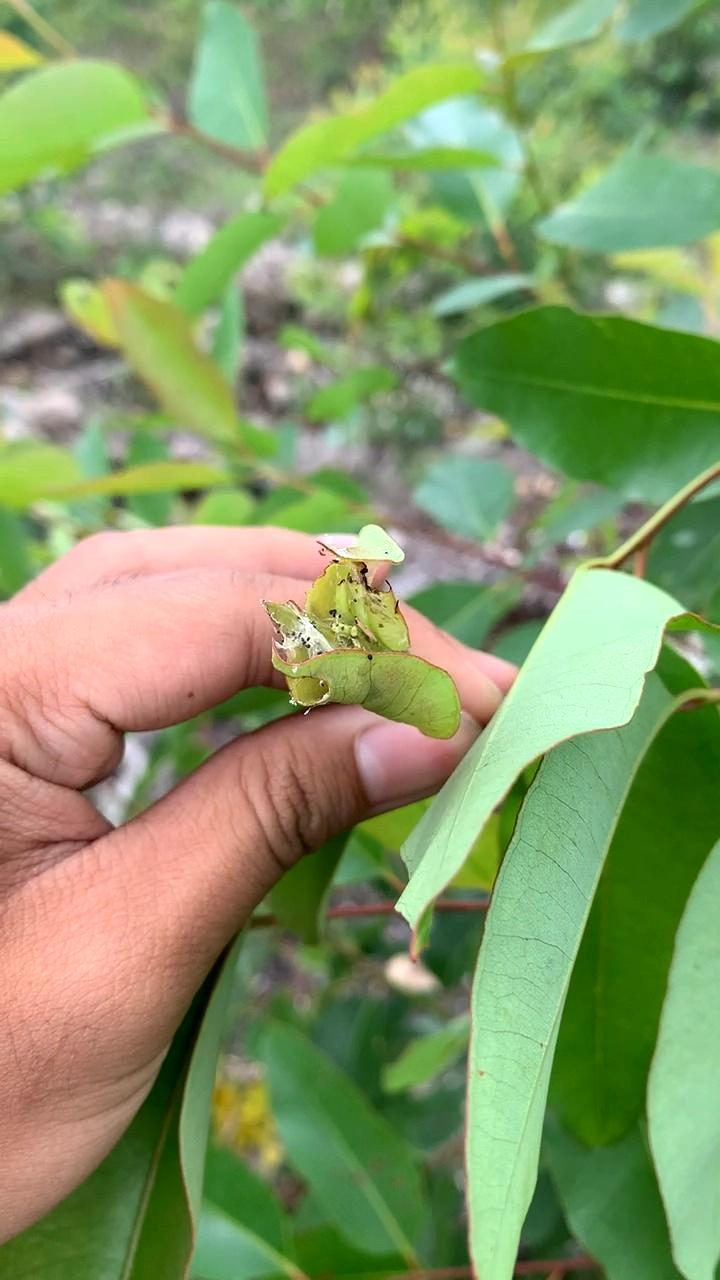Leaf Roller - Leaf: (266, 528, 475, 745)
